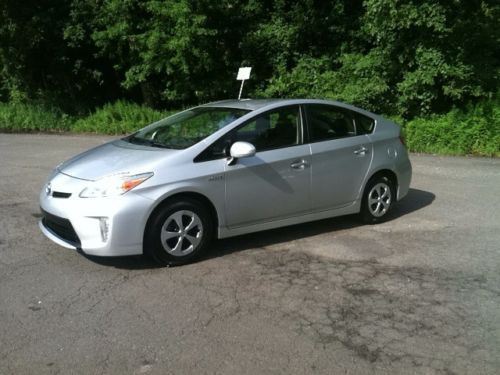Toyota Prius: (35, 96, 414, 269)
